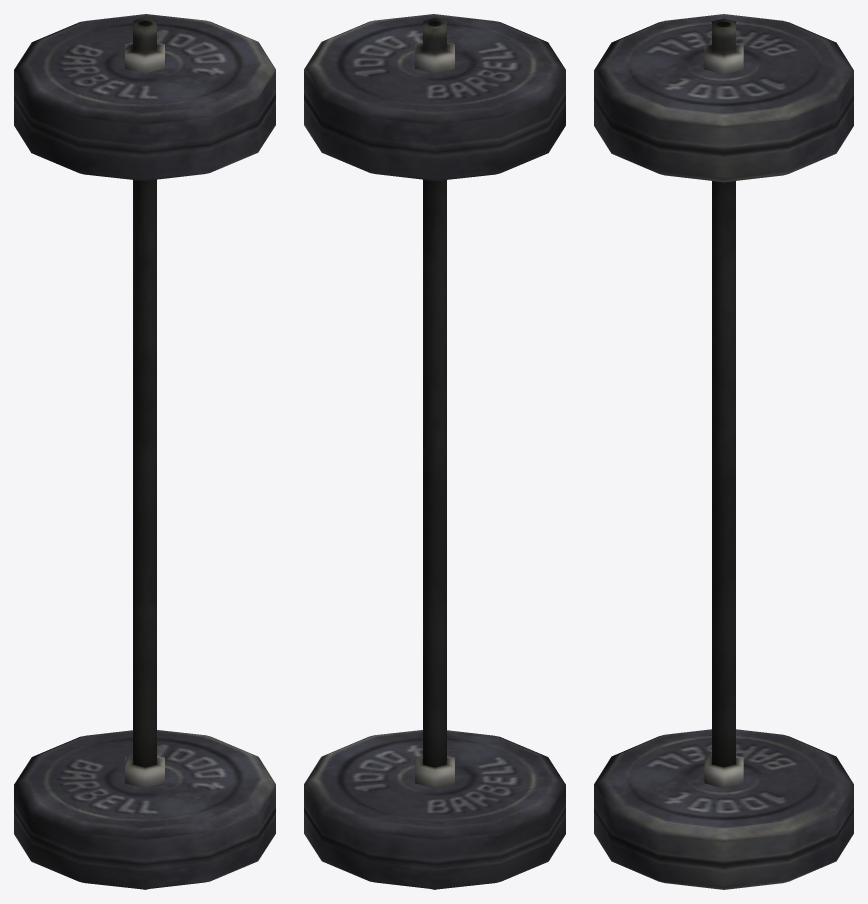
Rendered from barbell.glb.
The picture shows the model from 3 angles, left to right: view 1: azimuth 30°, elevation 25°; view 2: azimuth 150°, elevation 25°; view 3: azimuth 270°, elevation 25°; orthographic projection.
Parts seen in each view (by area): view 1: barbell; view 2: barbell; view 3: barbell.
Part boxes in pixels (<box>): barbell: <box>14,14,275,889</box>; barbell: <box>304,14,565,889</box>; barbell: <box>594,14,853,889</box>.
Size of the model in its own units: 1.15 by 4.15 by 1.14.
1 material, 1 textured.
